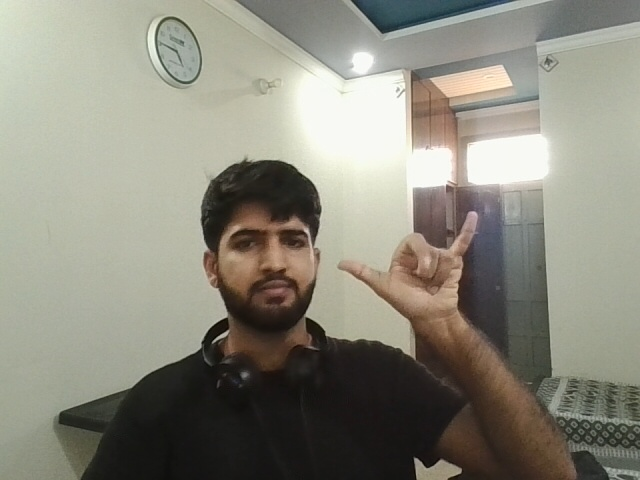I Love You: (330, 201, 513, 345)
